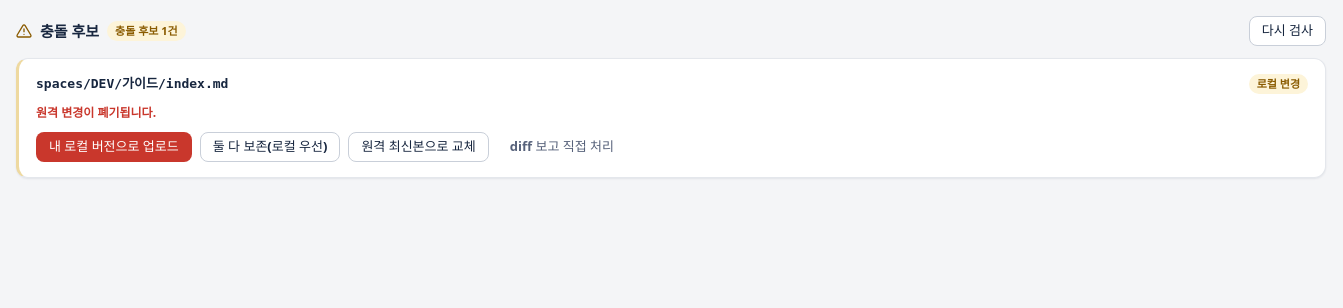
Scenario: ConflictsPanel 직접 처리 › 직접 처리 선택 시 diff를 카드 아래에 인라인 렌더한다
Click the button "diff 보고 직접 처리".
click(562, 147)  # box [497,132,627,162]
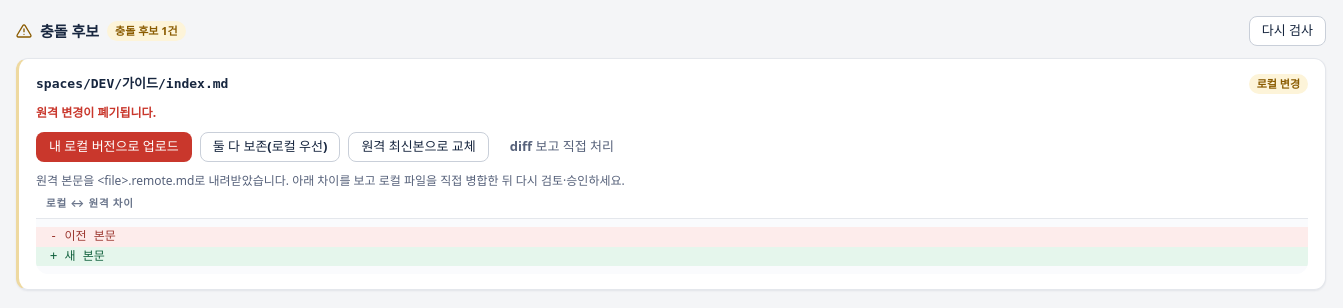
Result: the element with class "conflict-card__diff" is shown at [36,172,1308,274]
Result: the text with class "diff-line--removed" shows "이전 본문" at [64,229,116,243]
Result: the text with class "diff-line--added" shows "새 본문" at [64,248,105,262]
